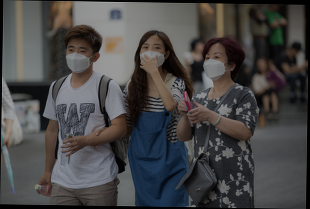with_mask: (65, 44, 92, 74), (203, 50, 228, 81), (139, 41, 165, 69)
